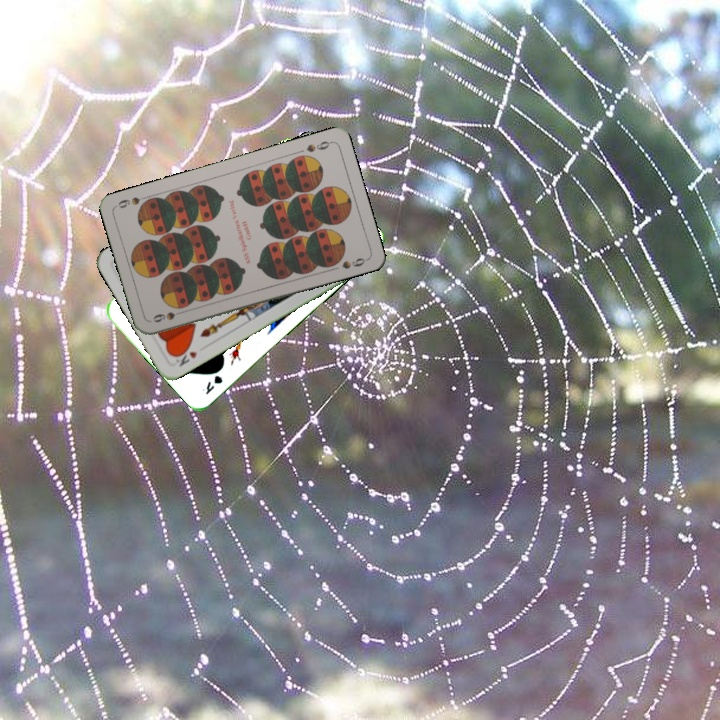GK: (198, 371, 225, 397)
HK: (170, 344, 200, 369)
S9: (148, 306, 188, 325), (302, 137, 334, 155)
